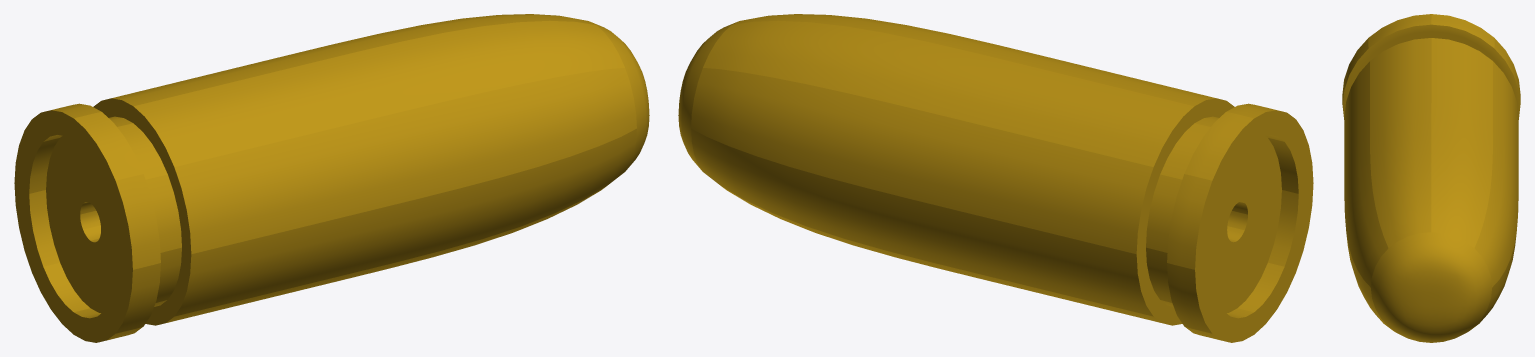
The model's file is BulletModel.fbx.
3 views of the same model, side by side, from view 1: azimuth 30°, elevation 25°; view 2: azimuth 150°, elevation 25°; view 3: azimuth 270°, elevation 25° (orthographic). The views are drawn at different scales.
Parts seen in each view (by area): view 1: Cube; view 2: Cube; view 3: Cube.
Part boxes in pixels (x1,y1,x2,y2): Cube: (14,14,649,342); Cube: (678,14,1313,342); Cube: (1342,14,1520,342).
Size of the model in its own units: 1.02 by 1.03 by 2.77.
